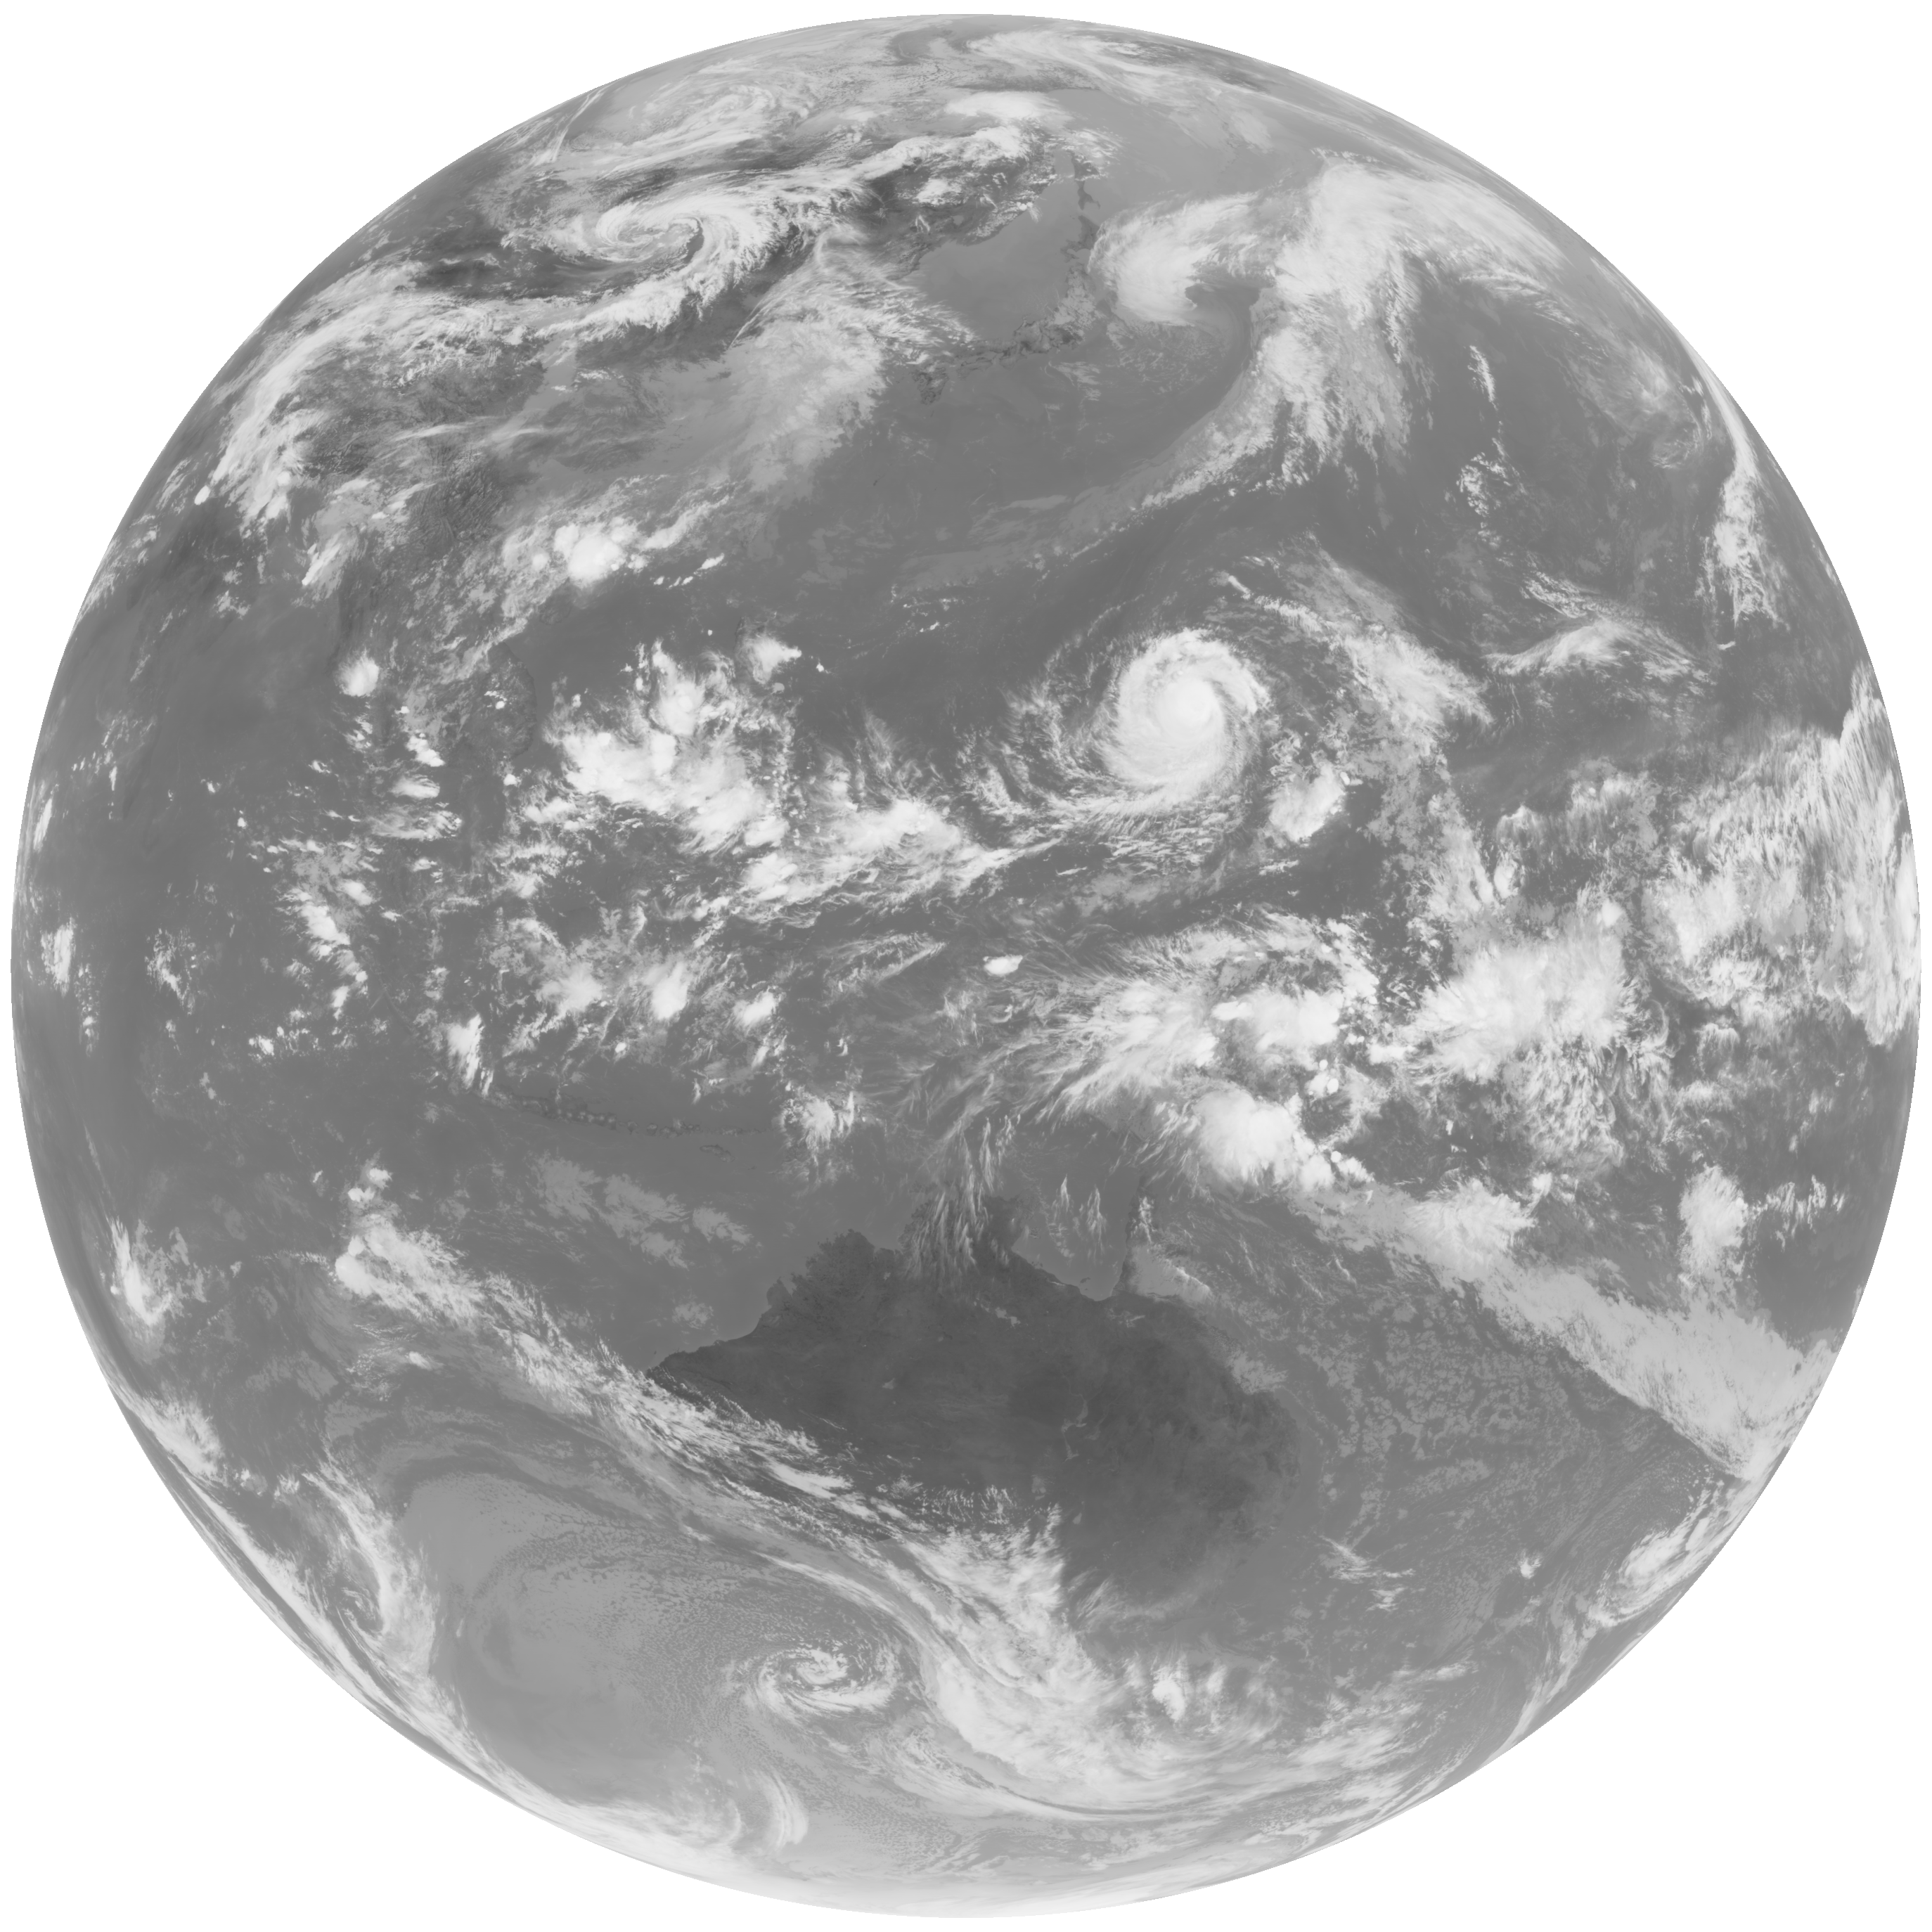typhoon: (948, 536, 1454, 899)
